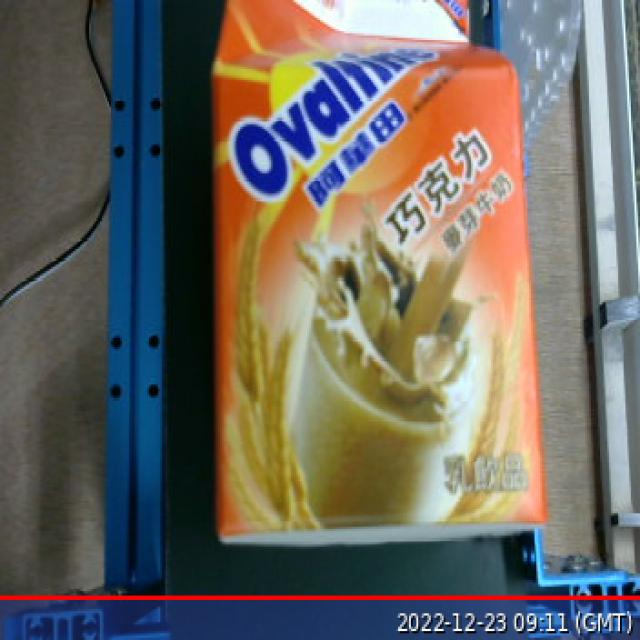non_white_jug: (190, 0, 550, 543)
